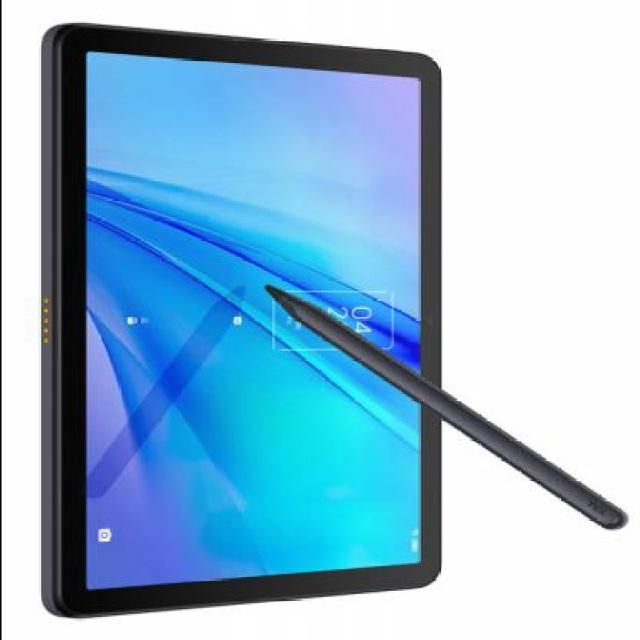tablet: (32, 17, 453, 615)
